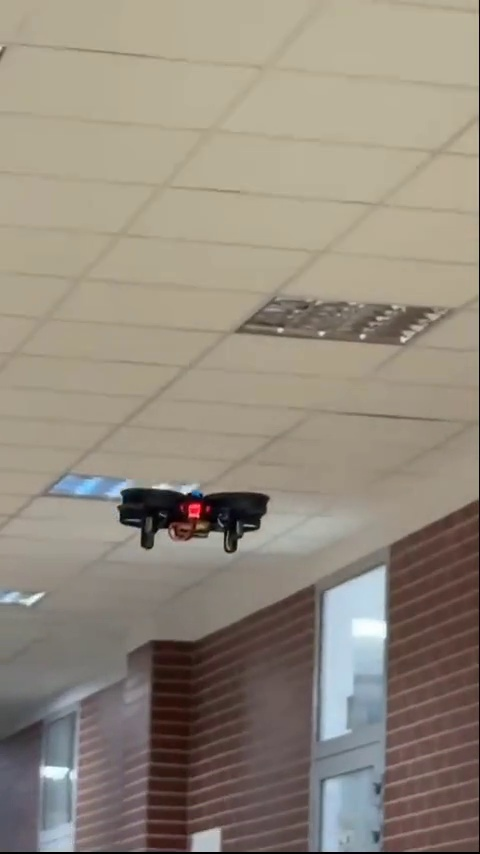drone: (114, 485, 271, 554)
